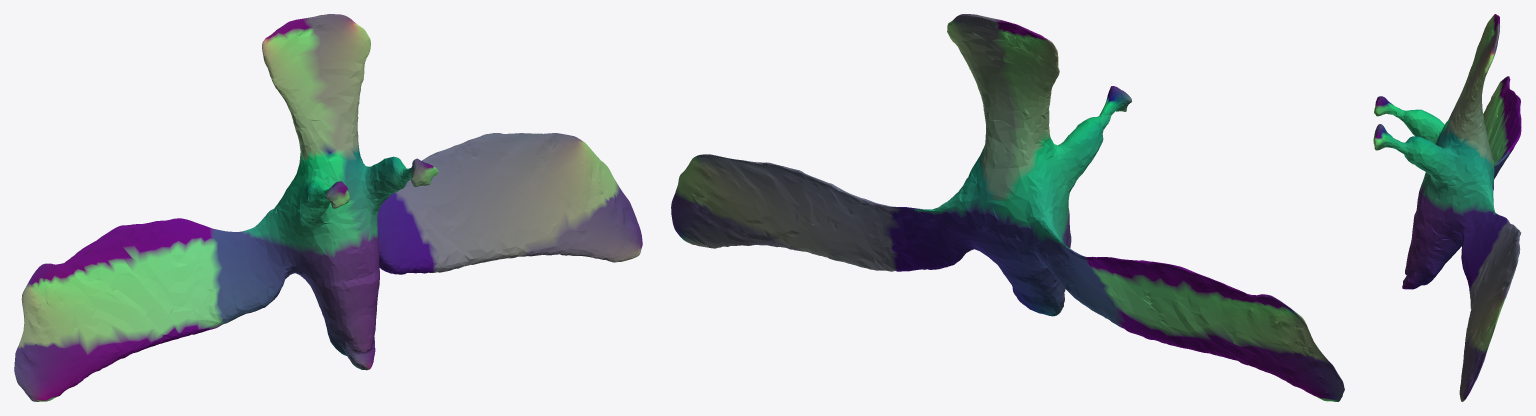
File: bird2-1.off.obj
3 views of the same model, side by side, from view 1: azimuth 30°, elevation 25°; view 2: azimuth 150°, elevation 25°; view 3: azimuth 270°, elevation 25° (orthographic). The views are drawn at different scales.
Bounding box in the file's own units: 1.66 × 0.7972 × 0.4058.
